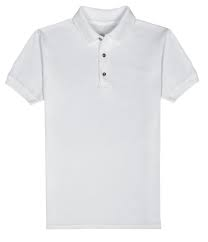C_polo shirt: (11, 9, 197, 229)
